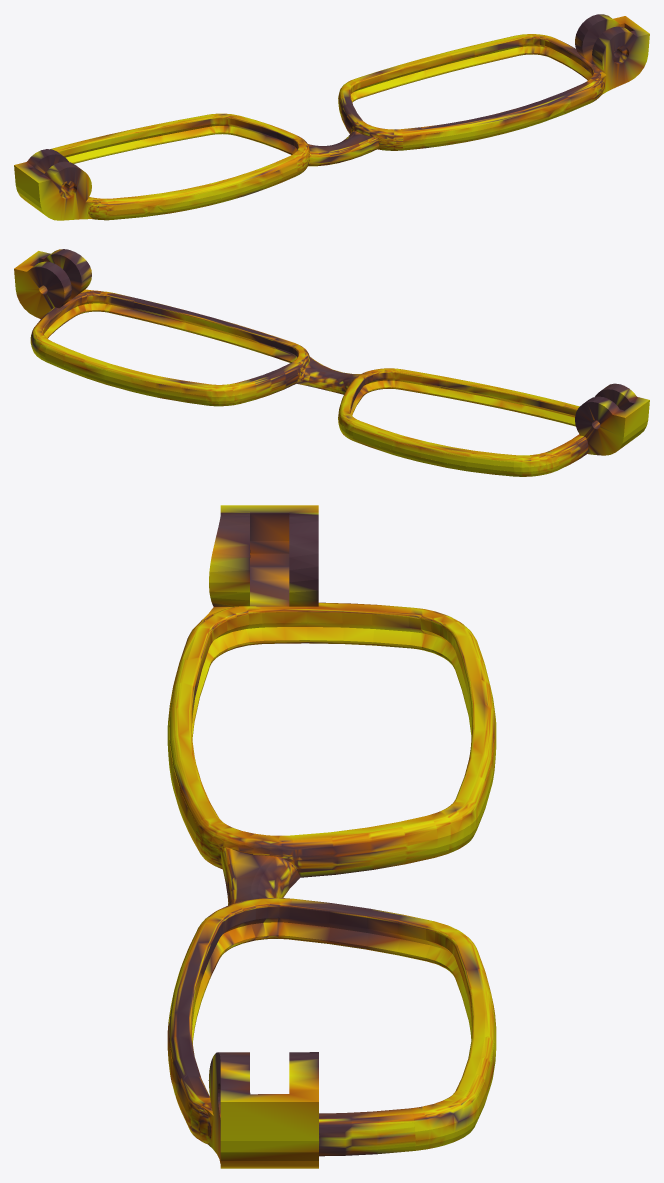
File: eyeglass1_final300.obj
3 views of the same model, one above another, from view 1: azimuth 30°, elevation 25°; view 2: azimuth 150°, elevation 25°; view 3: azimuth 270°, elevation 25° (orthographic). The views are drawn at different scales.
Bounding box in the file's own units: 1.97 × 0.2014 × 0.4584.
